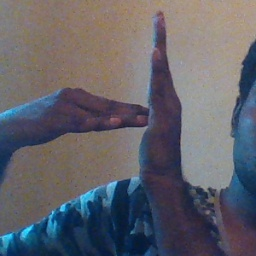Z: (71, 7, 191, 184)
